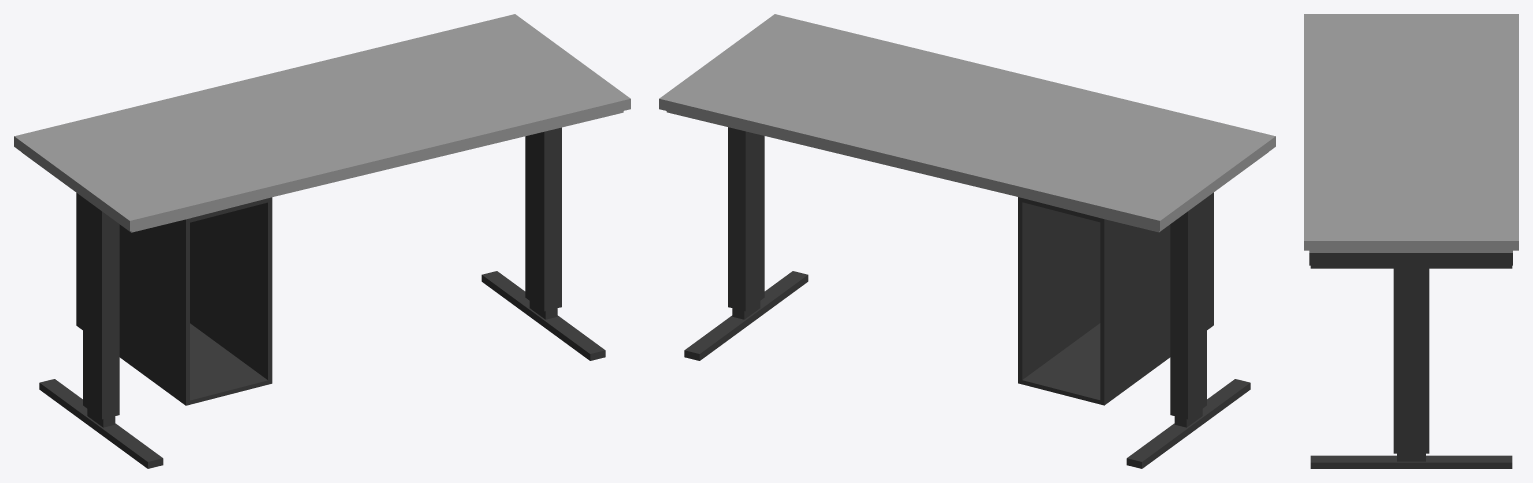
Rendered from DeskV2Light.fbx.
The picture shows the model from 3 angles, left to right: view 1: azimuth 30°, elevation 25°; view 2: azimuth 150°, elevation 25°; view 3: azimuth 270°, elevation 25°; orthographic projection. The views are drawn at different scales.
Visible parts, largest first — view 1: DeskV2Light; view 2: DeskV2Light; view 3: DeskV2Light.
Boxes of the visible parts, bbox=[...] form: DeskV2Light: bbox=[14, 14, 630, 468]; DeskV2Light: bbox=[659, 14, 1275, 468]; DeskV2Light: bbox=[1304, 14, 1518, 468].
Bounding box in the file's own units: 160 × 78.11 × 64.
